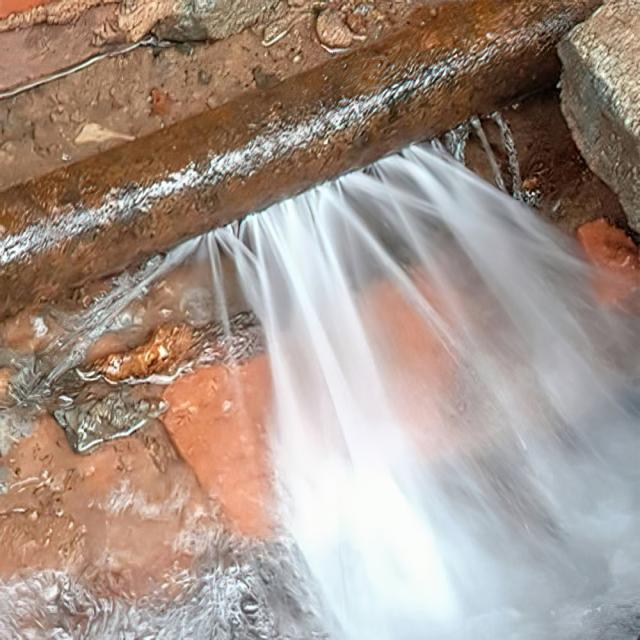leak: (202, 145, 640, 638)
